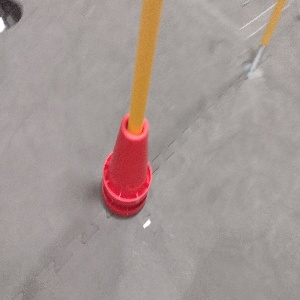Red_2: (100, 111, 152, 218)
